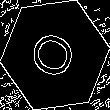O_SE: (25, 25, 85, 85)
